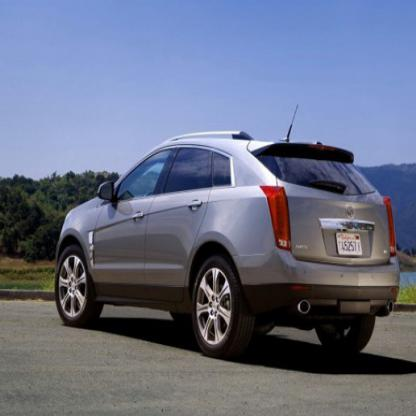Vehicle: (55, 131, 401, 360)
